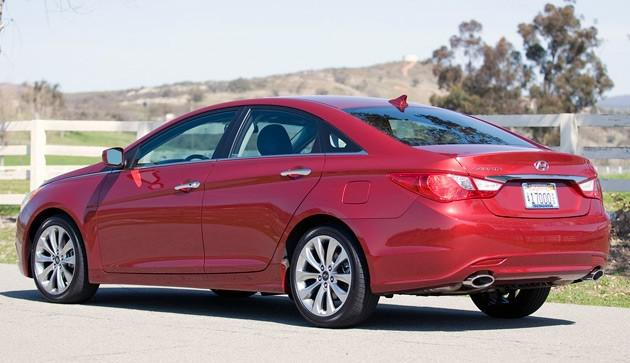Car: (8, 75, 623, 345)
